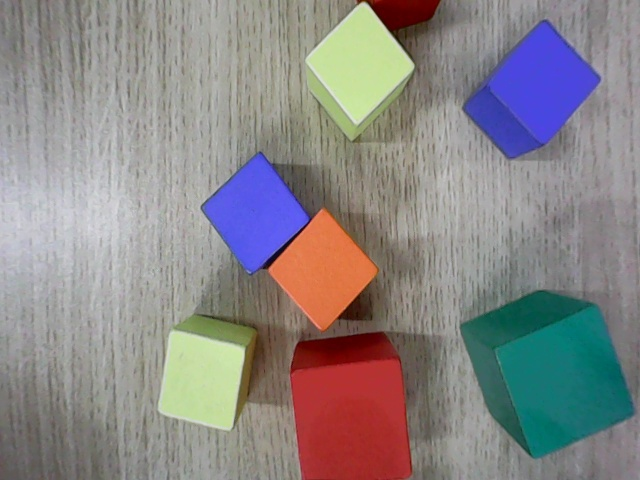upside of big cube: (489, 305, 636, 463), (291, 358, 413, 479)
upside of small cube: (485, 19, 603, 147), (303, 2, 418, 127), (266, 206, 380, 332), (200, 150, 310, 276), (156, 329, 246, 433)
